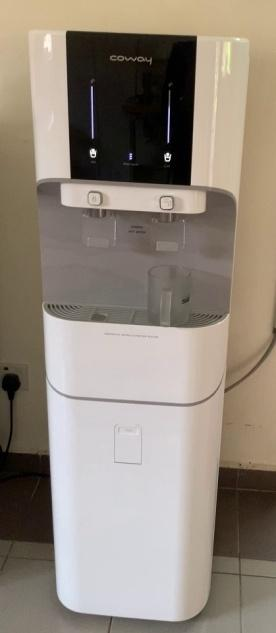Dispenser: (26, 27, 250, 623)
